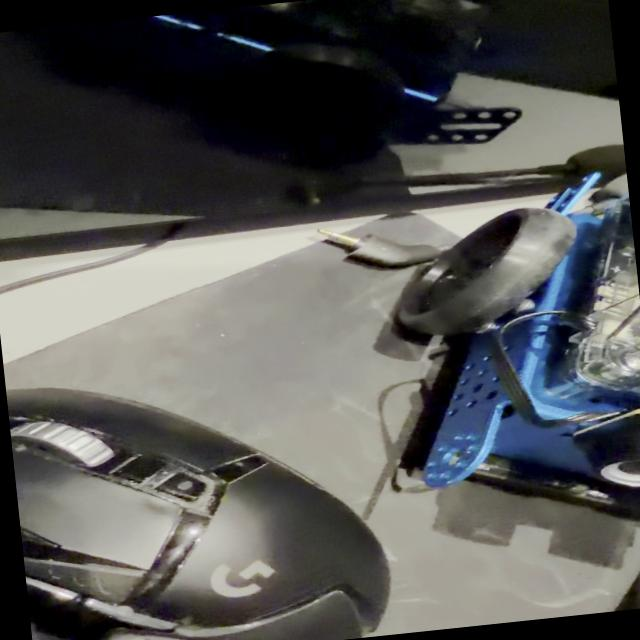mbot-detection: (375, 159, 640, 556)
